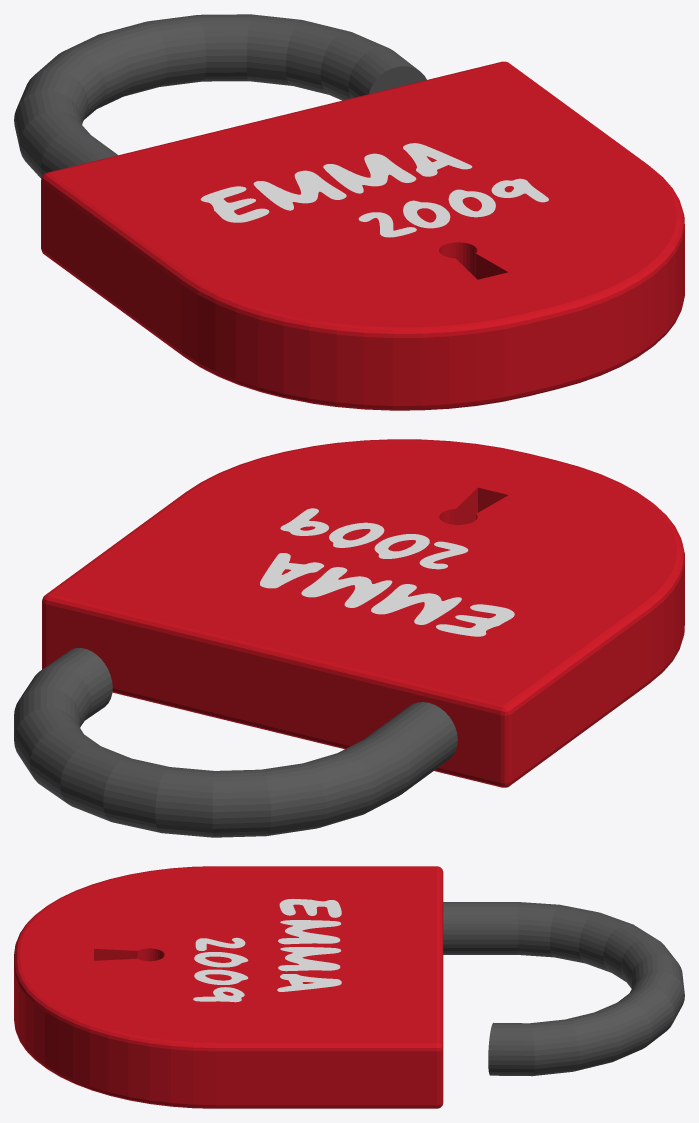
The model's file is lockOne.glb.
3 views of the same model, one above another, from view 1: azimuth 30°, elevation 25°; view 2: azimuth 150°, elevation 25°; view 3: azimuth 270°, elevation 25° (orthographic). The views are drawn at different scales.
Visible parts, largest first — view 1: Cube, Cylinder.001, Text, Text.001; view 2: Cube, Cylinder.001, Text, Text.001; view 3: Cube, Cylinder.001, Text, Text.001.
Part boxes in pixels (left/top/right/bottom): Cube: left=41, top=61, right=684, bottom=410; Cylinder.001: left=14, top=14, right=426, bottom=178; Text: left=200, top=143, right=472, bottom=222; Text.001: left=358, top=178, right=548, bottom=237; Cube: left=42, top=439, right=684, bottom=787; Cylinder.001: left=14, top=648, right=457, bottom=837; Text: left=260, top=553, right=514, bottom=636; Text.001: left=280, top=508, right=468, bottom=569; Cube: left=14, top=866, right=443, bottom=1108; Cylinder.001: left=443, top=902, right=684, bottom=1076; Text: left=277, top=899, right=341, bottom=991; Text.001: left=193, top=937, right=248, bottom=1002.
Bounding box in the file's own units: 5.99 × 1.01 × 9.35.
